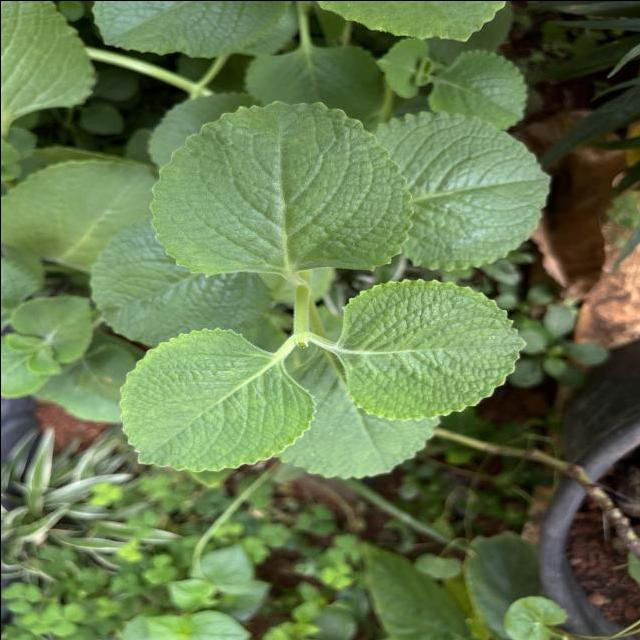Plectranthus barbatus: (146, 98, 414, 278), (117, 326, 317, 472), (374, 108, 552, 271), (334, 276, 527, 422), (87, 214, 276, 344), (425, 48, 527, 131), (8, 292, 94, 362)
